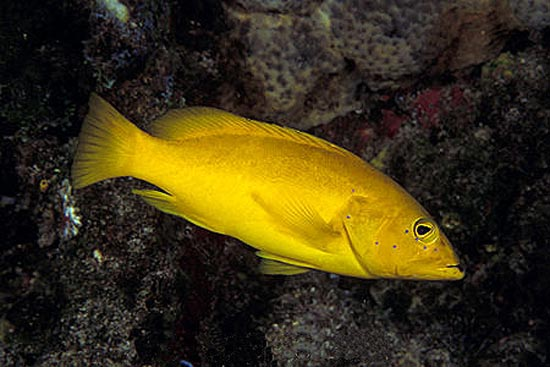Cephalopholis_fulvaw: (64, 84, 472, 294)
